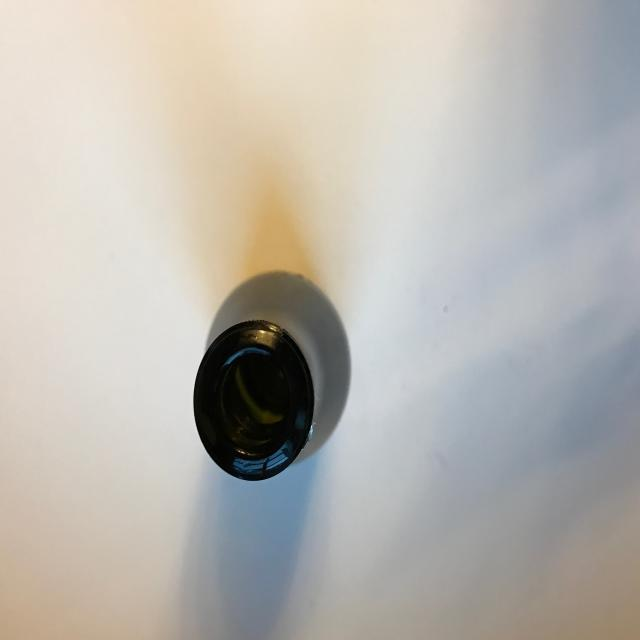glass: (193, 317, 316, 481)
